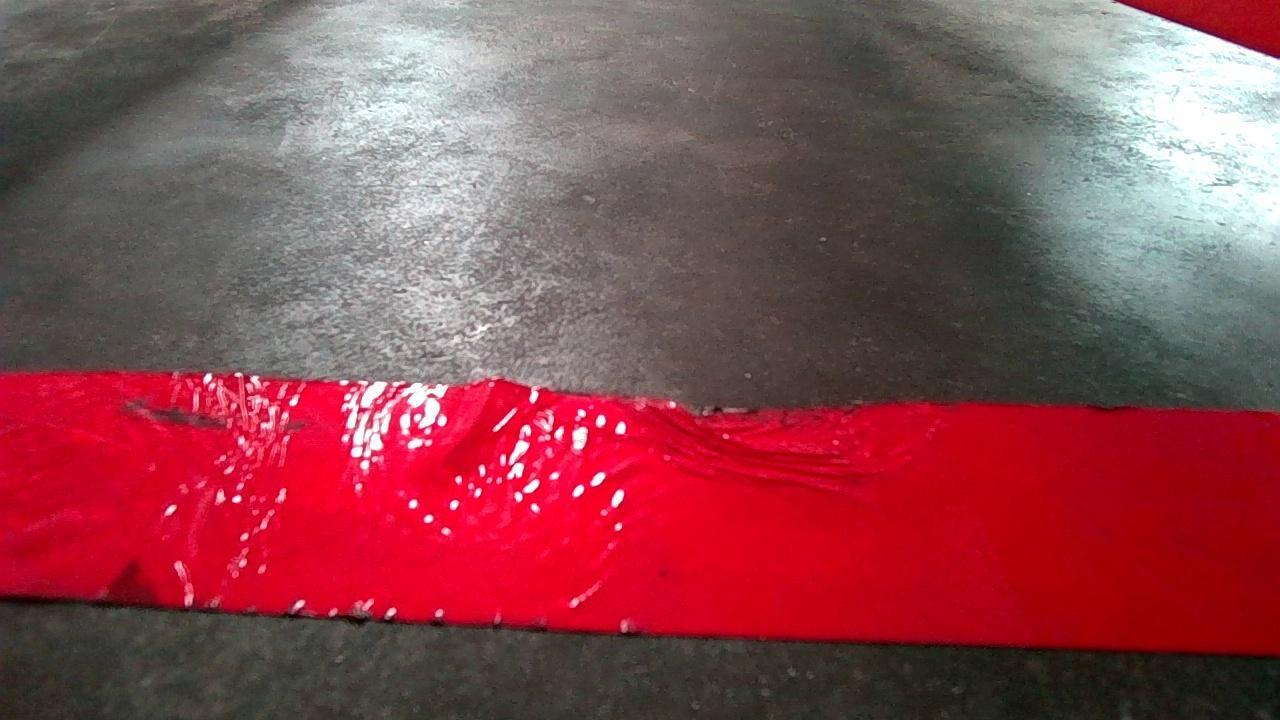h_rack: (31, 384, 1270, 678)
